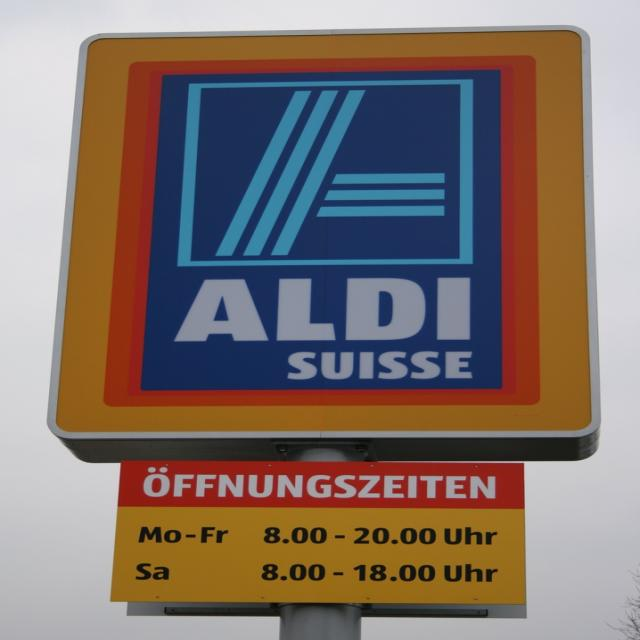aldi: (56, 31, 594, 434)
